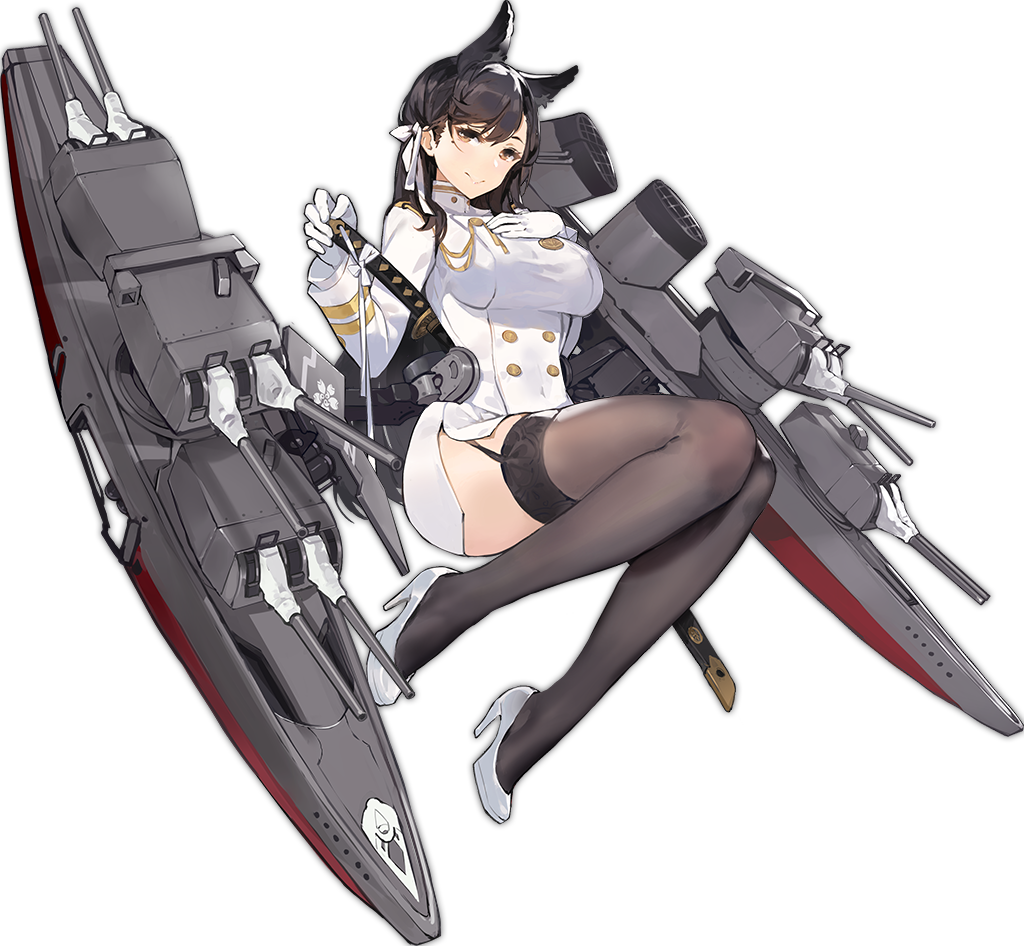person: (171, 1, 685, 848)
